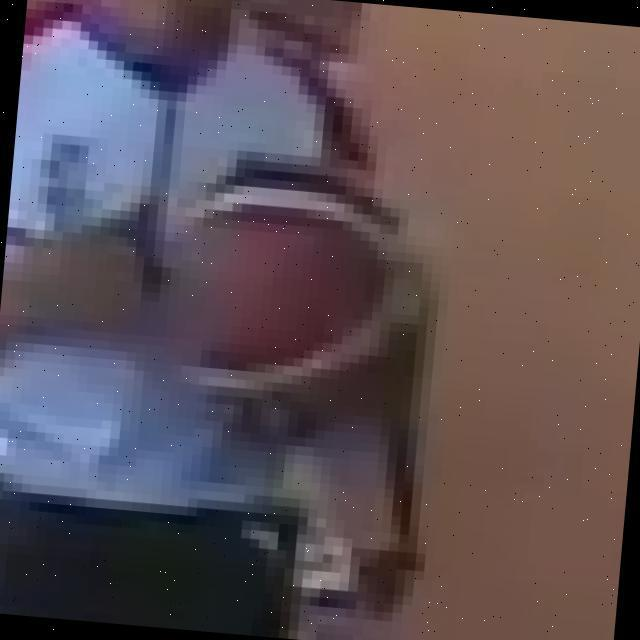ball: (109, 146, 462, 455)
